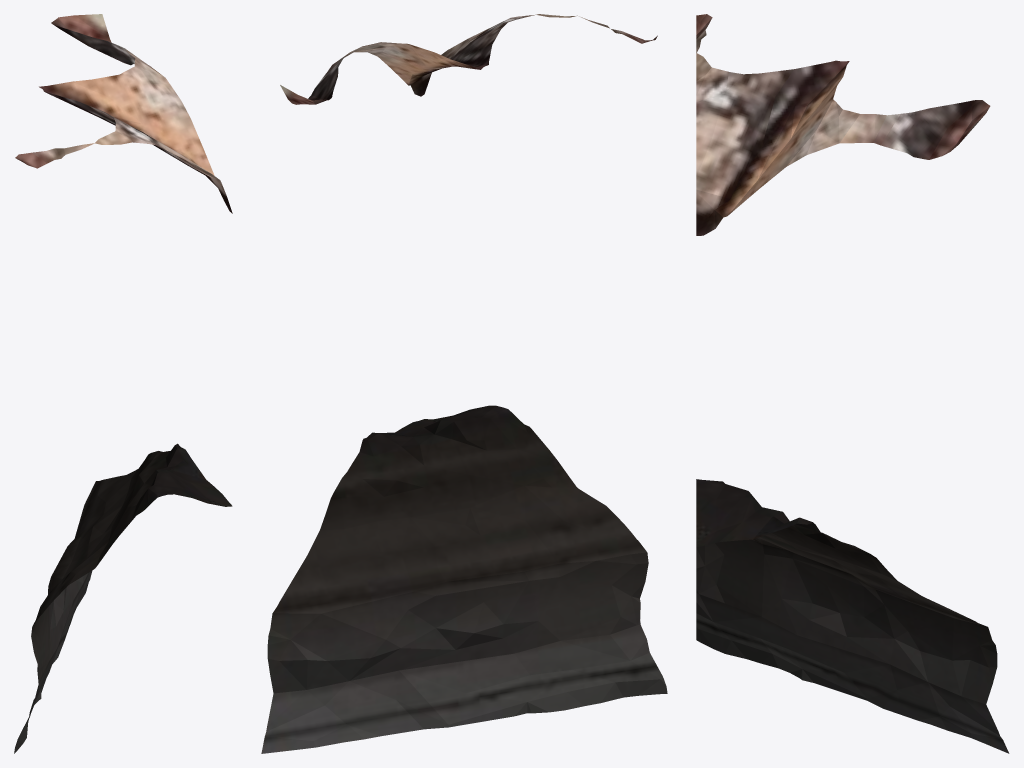
3 renders of one model, left to right at view 1: azimuth 30°, elevation 25°; view 2: azimuth 150°, elevation 25°; view 3: azimuth 270°, elevation 25°, orthographic. The views are drawn at different scales.
Size of the model in its own units: 0.3245 by 0.8374 by 0.3775.
Materials: 1 (1 with a texture image).
